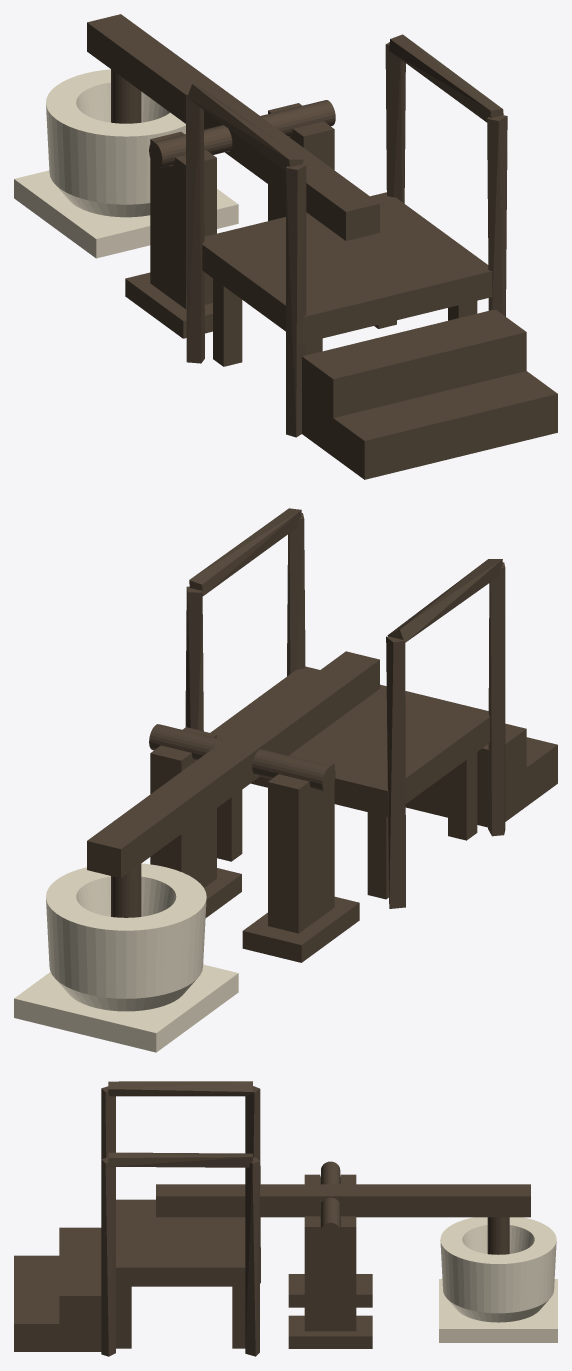
The model's file is foot-pestle-LOD2.glb.
The picture shows the model from 3 angles, top to bottom: view 1: azimuth 30°, elevation 25°; view 2: azimuth 150°, elevation 25°; view 3: azimuth 270°, elevation 25°; orthographic projection. The views are drawn at different scales.
Visible parts, largest first — view 1: pestle_timber_static, pestle_stone_static; view 2: pestle_timber_static, pestle_stone_static; view 3: pestle_timber_static, pestle_stone_static.
Part boxes in pixels (x1=…): pestle_timber_static: x1=87, y1=14, x2=557, y2=479; pestle_stone_static: x1=14, y1=69, x2=238, y2=258; pestle_timber_static: x1=87, y1=508, x2=557, y2=962; pestle_stone_static: x1=14, y1=863, x2=238, y2=1052; pestle_timber_static: x1=14, y1=1081, x2=530, y2=1356; pestle_stone_static: x1=439, y1=1217, x2=557, y2=1342.
Bounding box in the file's own units: 1.42 × 1.71 × 4.21.
